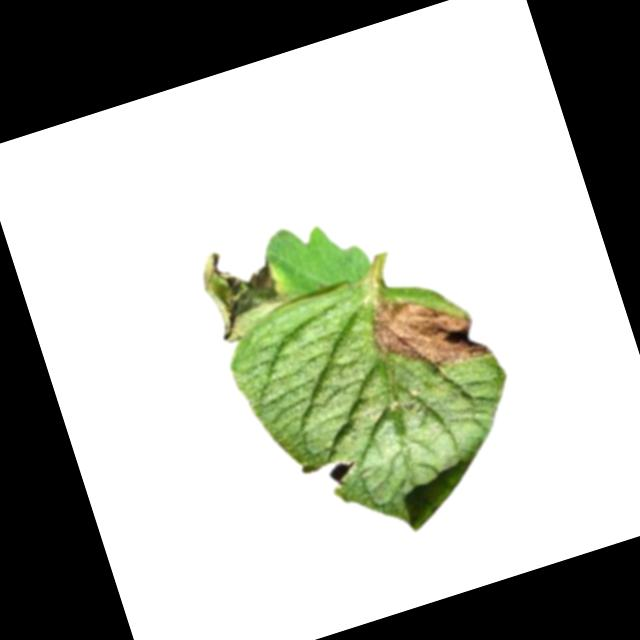Late_blight: (360, 266, 496, 388), (194, 236, 295, 346)
